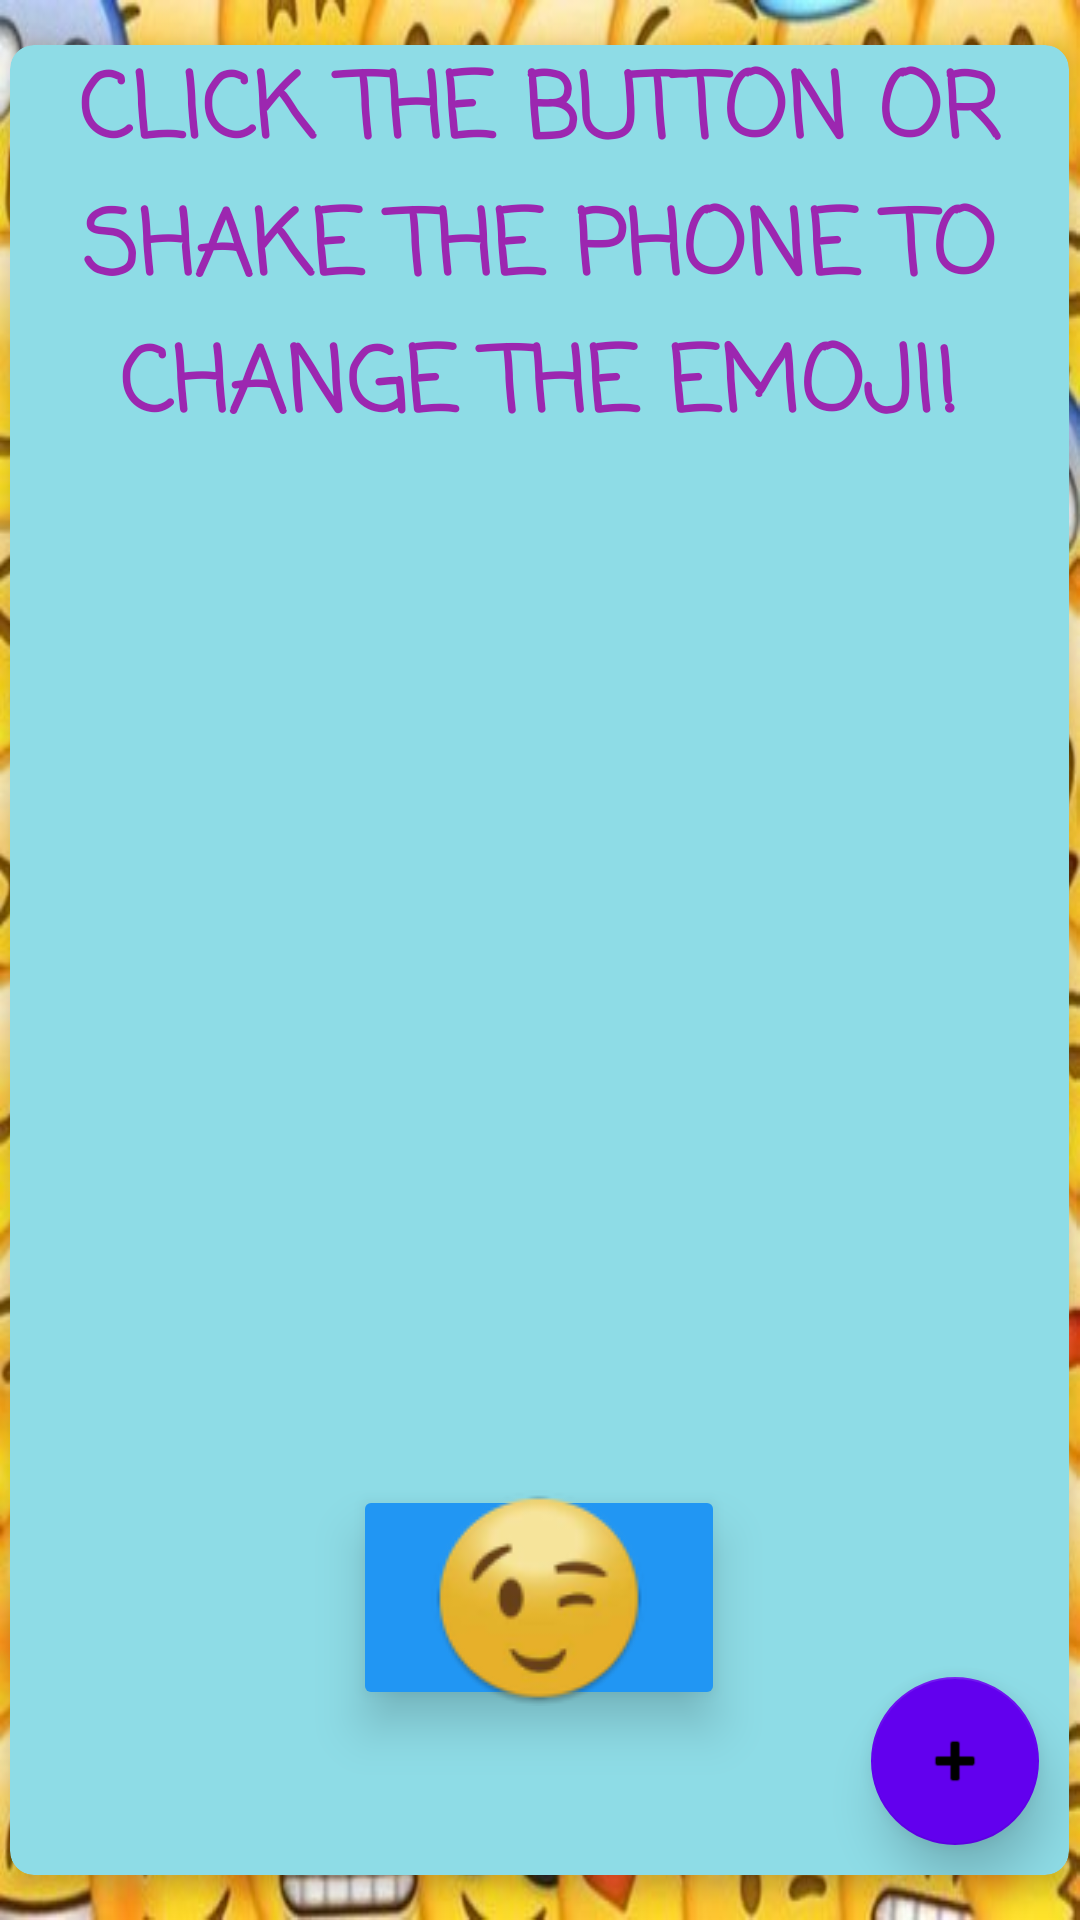

Icons on this 1080 x 1920 Android screen, each with the point to tap as point (x, y):
add: point (955, 1761)
buttonicon: point (539, 1603)
